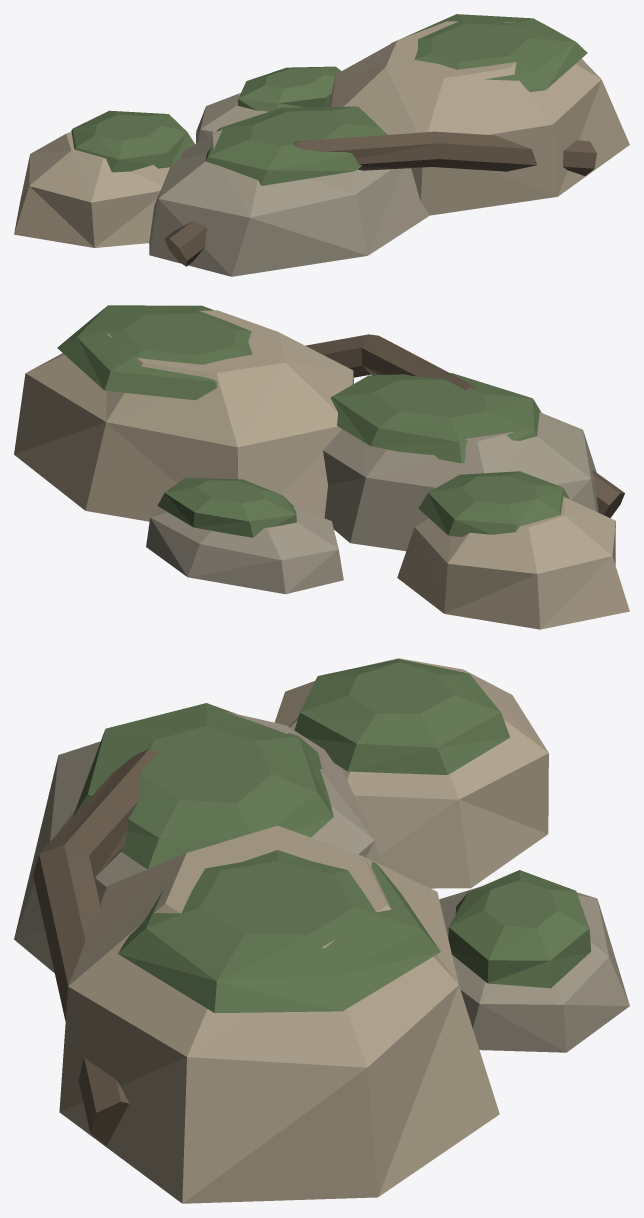
Rendered from DG_Debris_MossMasonry.fbx.
3 renders of one model, top to bottom at view 1: azimuth 30°, elevation 25°; view 2: azimuth 150°, elevation 25°; view 3: azimuth 270°, elevation 25°, orthographic. The views are drawn at different scales.
Visible parts, largest first — view 1: DG_Debris_MossMasonry; view 2: DG_Debris_MossMasonry; view 3: DG_Debris_MossMasonry.
Part boxes in pixels (bbox=[...]): DG_Debris_MossMasonry: bbox=[14, 14, 629, 276]; DG_Debris_MossMasonry: bbox=[14, 305, 629, 629]; DG_Debris_MossMasonry: bbox=[14, 658, 629, 1203].
Bounding box in the file's own units: 1.57 × 0.307 × 0.8657.
